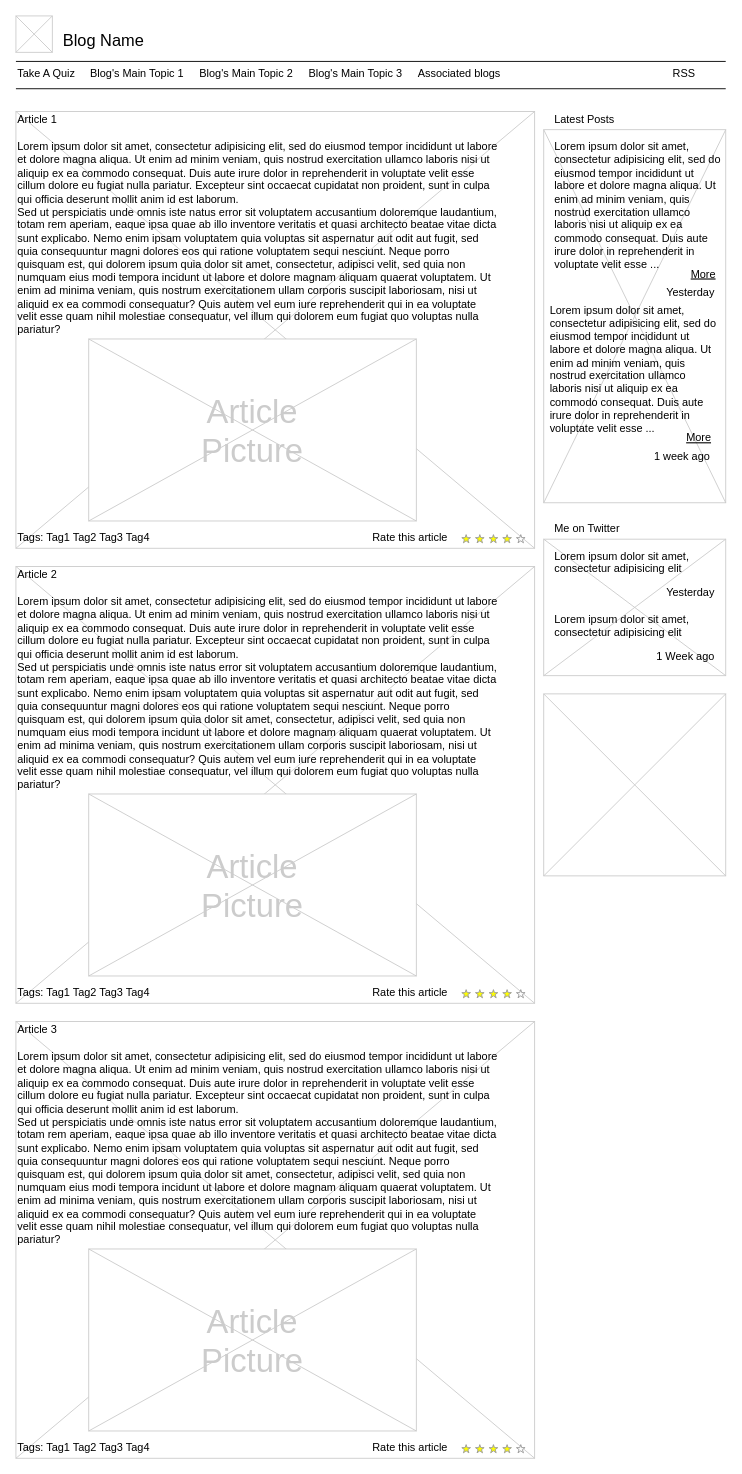
The diagram is 742 pixels wide and 1474 high, and some of its shapes have lost their labels. The shapes that lost their labels are listed below. From the top down, each one's centre as x and y in pixels, then its label:
[33,33]: Blog Logo
[634,784]: Tag Cloud
